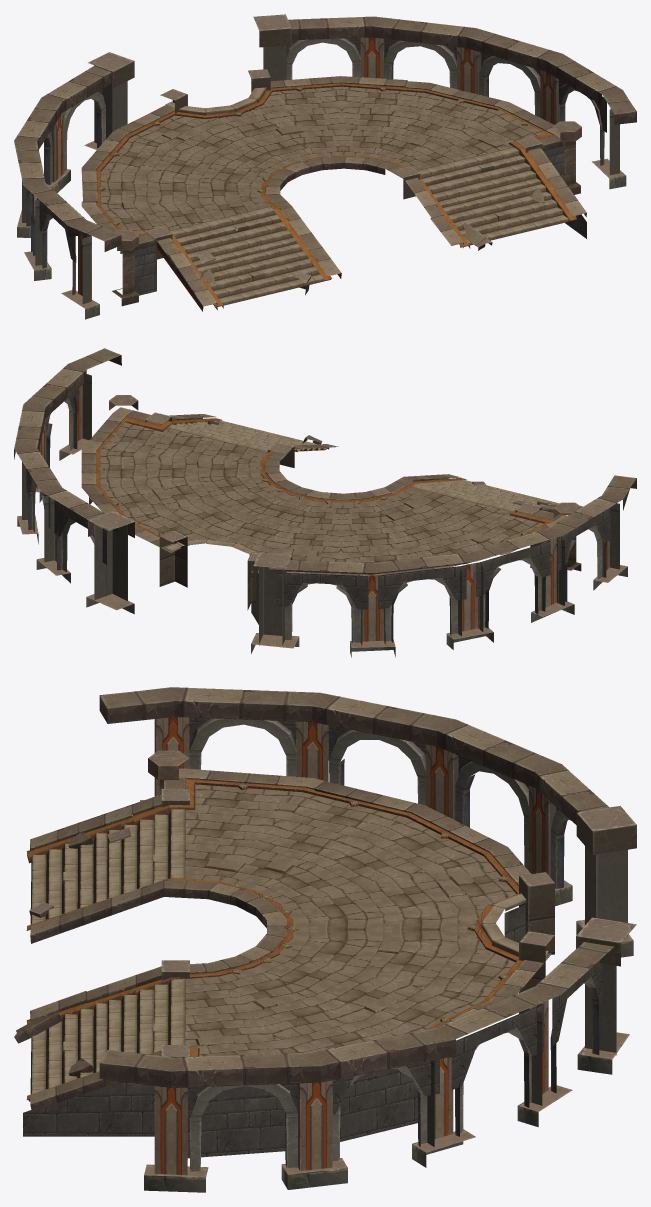
File: terrain_section03_guanka1306.FBX
The picture shows the model from 3 angles, top to bottom: view 1: azimuth 30°, elevation 25°; view 2: azimuth 150°, elevation 25°; view 3: azimuth 270°, elevation 25°; orthographic projection. The views are drawn at different scales.
Parts seen in each view (by area): view 1: terrain_section03_guanka1306; view 2: terrain_section03_guanka1306; view 3: terrain_section03_guanka1306.
Boxes of the visible parts, box(x1,y1,x2,y2) form: terrain_section03_guanka1306: box(14, 14, 636, 319); terrain_section03_guanka1306: box(14, 348, 636, 657); terrain_section03_guanka1306: box(14, 687, 636, 1192).
Size of the model in its own units: 57.81 by 9.21 by 39.62.
